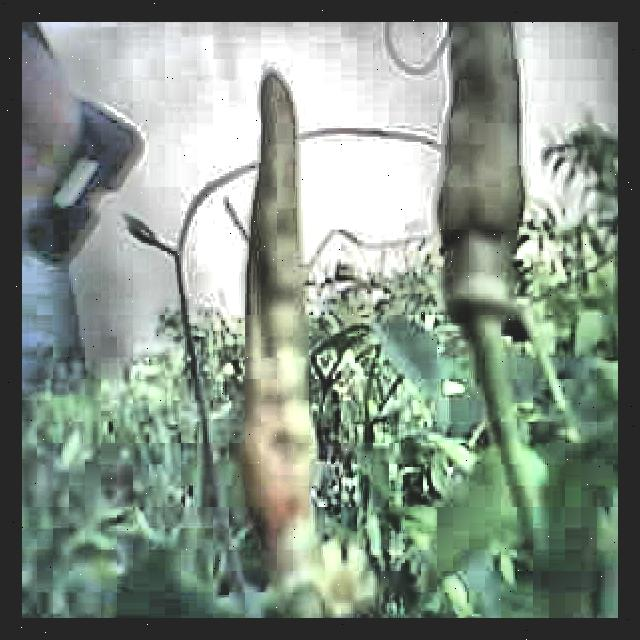Cabai: (225, 83, 331, 525)
